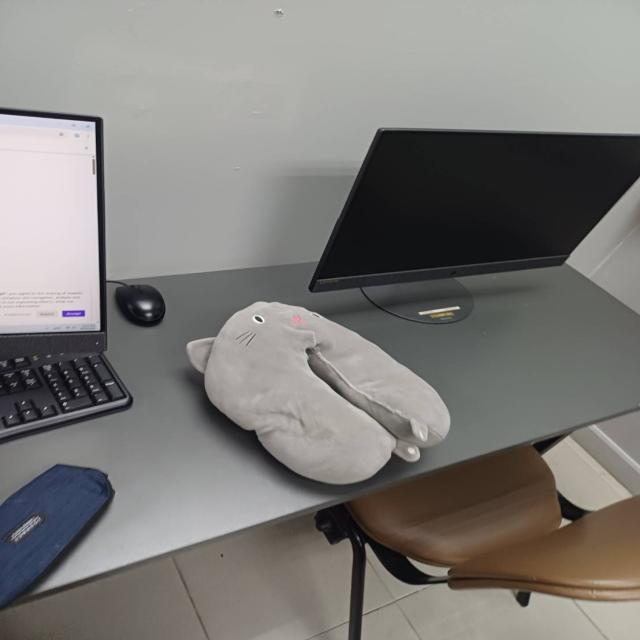pillow: (182, 296, 458, 492)
